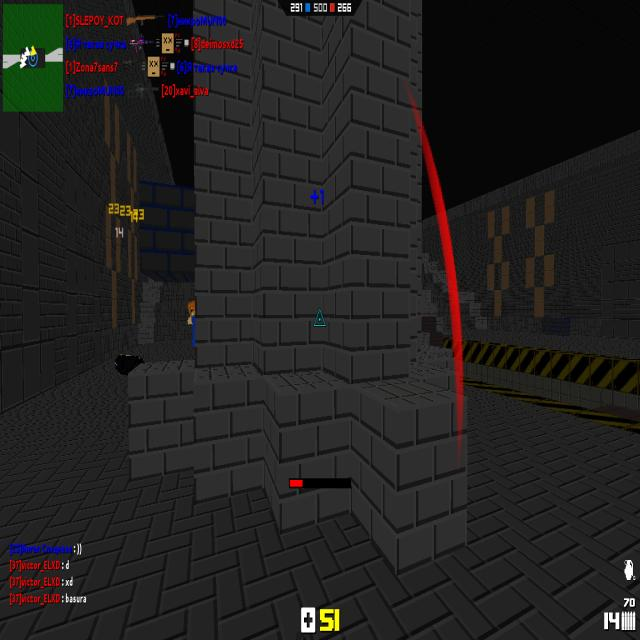enemy: (187, 298, 200, 353)
